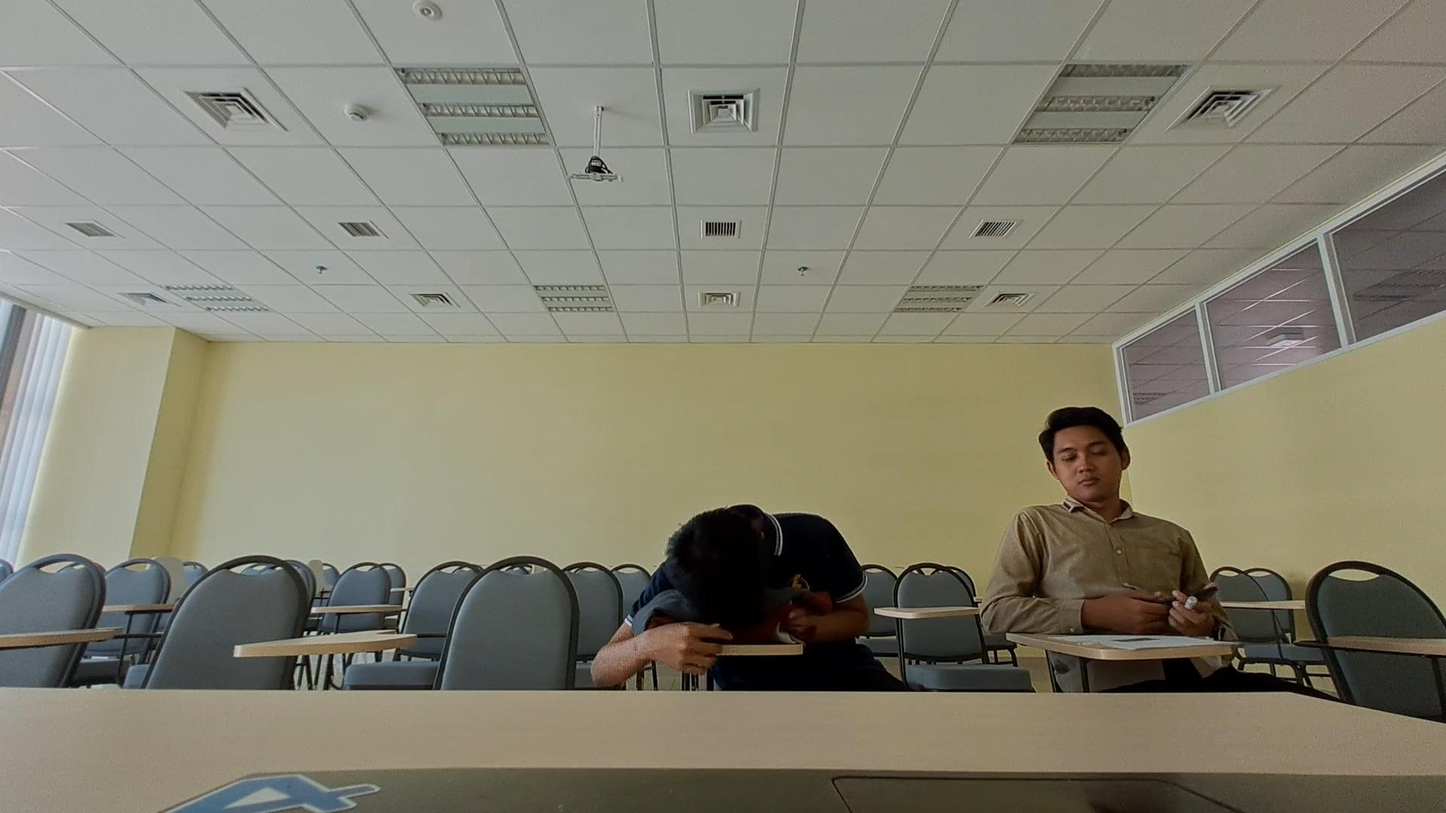sleep: (604, 504, 876, 644)
study: (970, 403, 1224, 636)
